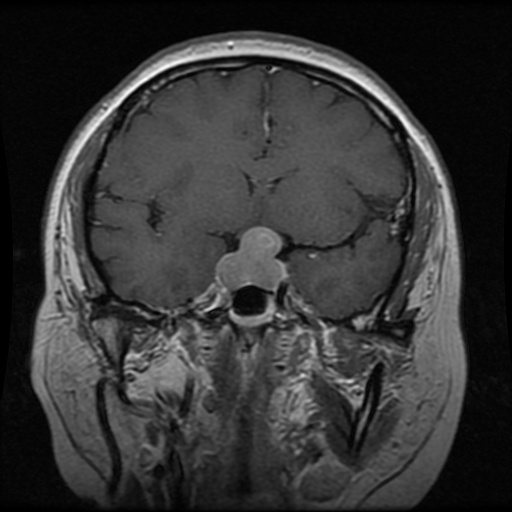pituitary: (217, 226, 283, 291)
